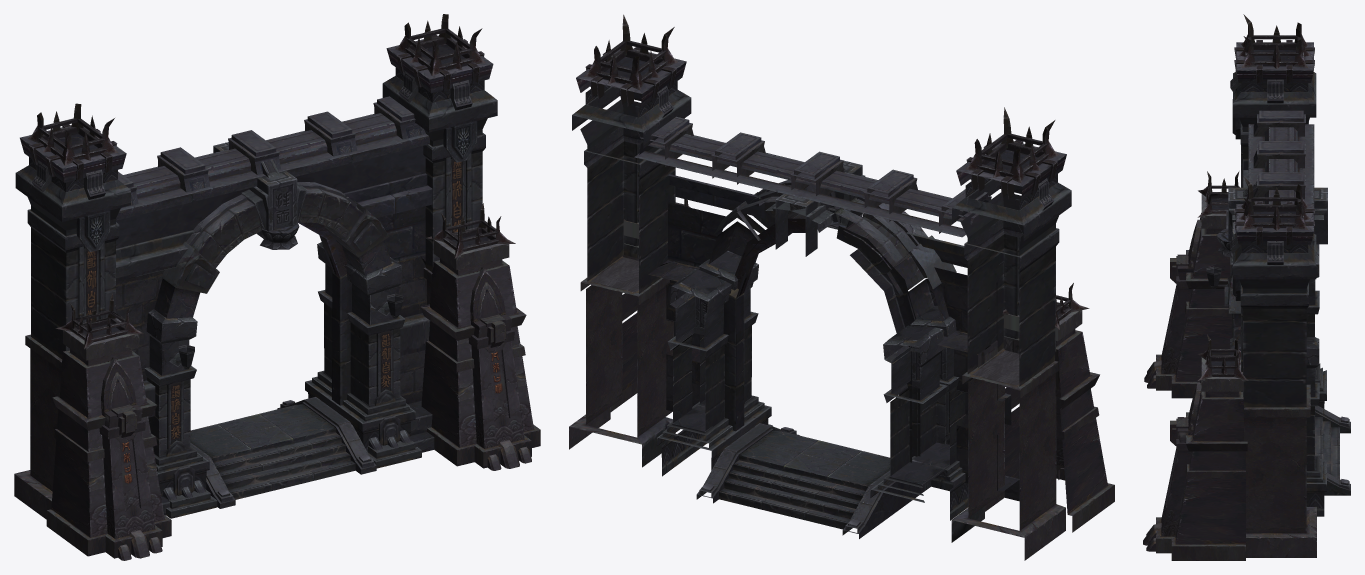
Rendered from 2_BTT_DaMen_01.FBX.
3 renders of one model, left to right at view 1: azimuth 30°, elevation 25°; view 2: azimuth 150°, elevation 25°; view 3: azimuth 270°, elevation 25°, orthographic. The views are drawn at different scales.
Visible parts, largest first — view 1: 2_BTT_DaMen_01_02, 2_BTT_GongXingTieMen_02, 2_BTT_GongXingTieMen_02_02, 2_BTT_DaMen_01_03, 2_BTT_DaMen_01_01; view 2: 2_BTT_GongXingTieMen_02_02, 2_BTT_DaMen_01_02, 2_BTT_GongXingTieMen_02, 2_BTT_DaMen_01_03, 2_BTT_DaMen_01_01; view 3: 2_BTT_DaMen_01_02, 2_BTT_GongXingTieMen_02_02, 2_BTT_GongXingTieMen_02, 2_BTT_DaMen_01_01, 2_BTT_DaMen_01_03.
Boxes of the visible parts, x1,y1,x2,y2 form: 2_BTT_DaMen_01_02: (14, 234, 540, 560); 2_BTT_GongXingTieMen_02: (20, 14, 493, 318); 2_BTT_GongXingTieMen_02_02: (15, 67, 497, 359); 2_BTT_DaMen_01_03: (132, 242, 434, 518); 2_BTT_DaMen_01_01: (56, 203, 515, 508); 2_BTT_GongXingTieMen_02_02: (572, 81, 1071, 386); 2_BTT_DaMen_01_02: (569, 220, 1114, 560); 2_BTT_GongXingTieMen_02: (576, 14, 1066, 321); 2_BTT_DaMen_01_03: (648, 251, 1019, 520); 2_BTT_DaMen_01_01: (623, 199, 1089, 542); 2_BTT_DaMen_01_02: (1143, 194, 1316, 560); 2_BTT_GongXingTieMen_02_02: (1216, 71, 1327, 407); 2_BTT_GongXingTieMen_02: (1224, 14, 1314, 343); 2_BTT_DaMen_01_01: (1197, 171, 1350, 510); 2_BTT_DaMen_01_03: (1206, 244, 1326, 516).
Size of the model in its own units: 1369 by 1136 by 603.
Materials: 4 (4 with a texture image).
